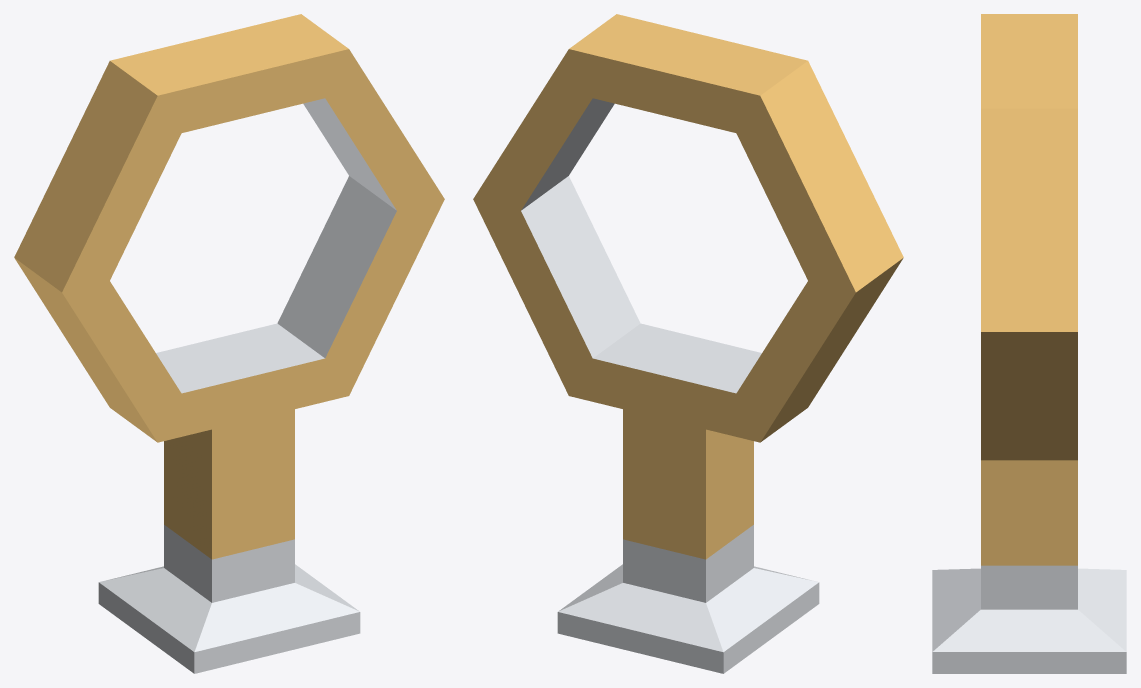
File: pipe_ringSupport.glb
3 renders of one model, left to right at view 1: azimuth 30°, elevation 25°; view 2: azimuth 150°, elevation 25°; view 3: azimuth 270°, elevation 25°, orthographic.
Visible parts, largest first — view 1: pipe_ringSupport; view 2: pipe_ringSupport; view 3: pipe_ringSupport.
Part boxes in pixels (x1,y1,x2,y2): pipe_ringSupport: (14,14,444,673); pipe_ringSupport: (473,14,903,673); pipe_ringSupport: (932,14,1126,673).
Size of the model in its own units: 0.9238 by 1.3 by 0.4.
